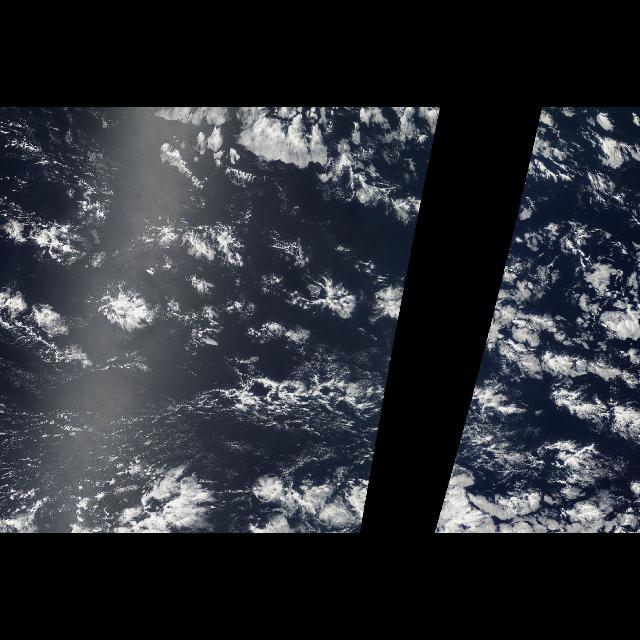Flower: (0, 111, 442, 533), (432, 111, 636, 533)
Sugar: (5, 367, 225, 498)
